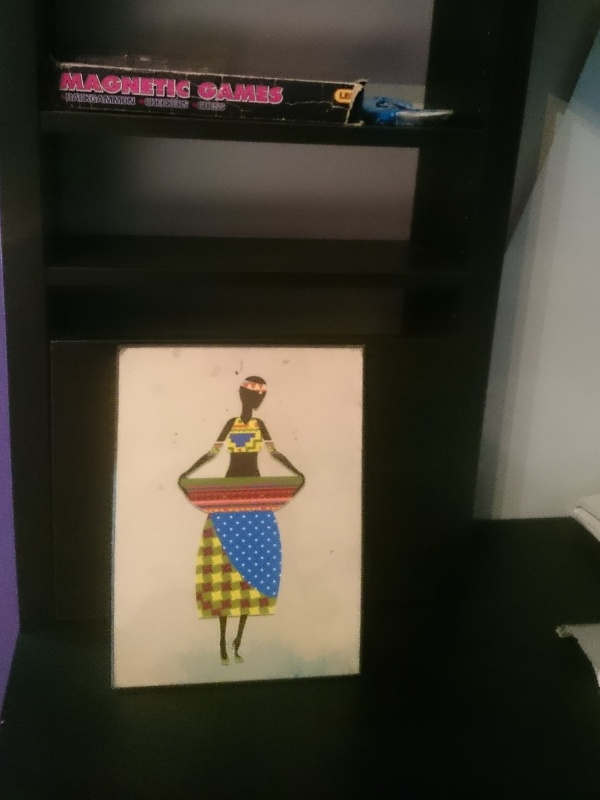my image: (114, 349, 362, 684)
